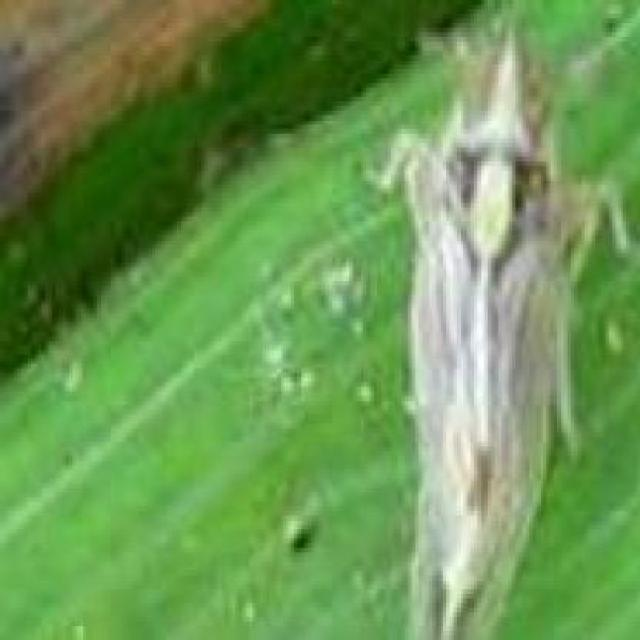brown-planthopper: (377, 26, 578, 640)
